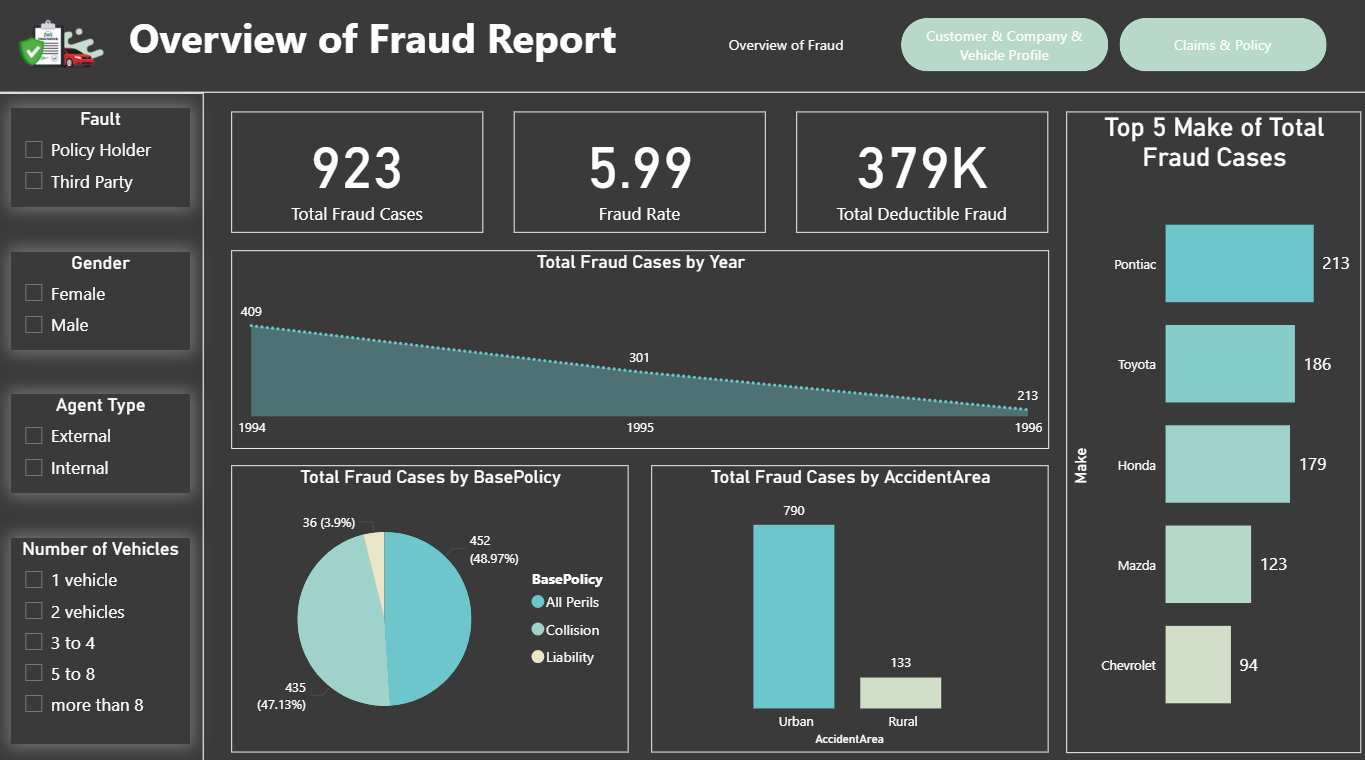

What the dashboard file says about the page in this screenshot:
{"tool":"powerbi","page":{"name":"Overview of Fraud","canvas":[1280,720],"ordinal":0},"visuals":[{"type":"shape","box":[0,0,1280.2,91.9],"z":0},{"type":"shape","box":[0,91.9,194.2,627.9],"z":1000},{"type":"textbox","box":[119.8,10.5,480.2,74.4],"z":2000},{"type":"image","box":[0,2.3,119.8,89.5],"z":3000},{"type":"barChart","title":"Top 5 Make of Total Fraud Cases","fields":{"Y":["'Measures'.Total Fraud Cases"],"Category":["Vehicle Dim.Make"]},"box":[996.7,109.2,274.1,596.8],"z":4000},{"type":"lineChart","fields":{"Y":["Measure.Total Fraud Cases"],"Category":["Date Dim.Year"]},"box":[219.8,238.4,760.5,184.9],"z":5000},{"type":"pieChart","fields":{"Y":["'Measures'.Total Fraud Cases"],"Category":["Policy Dim.BasePolicy"]},"box":[219.8,438.4,369.8,267.4],"z":6000},{"type":"columnChart","fields":{"Category":["Claim Dim.AccidentArea"],"Y":["'Measures'.Total Fraud Cases"]},"box":[610.5,438.4,369.8,267.4],"z":7000},{"type":"card","fields":{"Values":["Measure.Total Fraud Cases"]},"box":[219.6,109.8,234.6,112.5],"z":8000},{"type":"card","fields":{"Values":["Measure.Fraud Rate"]},"box":[482.3,109.8,234.6,112.5],"z":9000},{"type":"card","fields":{"Values":["Measure.Total Deductible Fraud"]},"box":[745.1,109.8,234.6,112.5],"z":10000},{"type":"pageNavigator","box":[639.5,22.1,600,50],"z":11000},{"type":"slicer","title":"Fault","fields":{"Values":["Claim Dim.Fault"]},"box":[15.7,105.8,166.3,91.9],"z":12000},{"type":"slicer","title":"Gender","fields":{"Values":["Client Dim.Sex"]},"box":[15.7,239.1,166.3,91.9],"z":13000},{"type":"slicer","title":"Agent Type","fields":{"Values":["Company Dim.AgentType"]},"box":[15.7,372.5,166.3,91.9],"z":14000},{"type":"slicer","title":"Number of Vehicles ","fields":{"Values":["Policy Dim.NumberOfCars"]},"box":[15.7,505.8,166.3,191.9],"z":15000}]}

Visuals, with their boxes in screenshot pixels (x1, y1, x2, y2), scaled from the page's 1280x720 canvas onto the 1365x760 screenshot:
shape: (0, 0, 1364, 97)
shape: (0, 97, 207, 759)
textbox: (128, 11, 640, 90)
image: (0, 2, 128, 97)
"Top 5 Make of Total Fraud Cases" barChart: (1063, 115, 1355, 745)
lineChart - Measure.Total Fraud Cases x Date Dim.Year: (234, 252, 1045, 447)
pieChart - 'Measures'.Total Fraud Cases x Policy Dim.BasePolicy: (234, 463, 629, 745)
columnChart - Claim Dim.AccidentArea x 'Measures'.Total Fraud Cases: (651, 463, 1045, 745)
card - Measure.Total Fraud Cases: (234, 116, 484, 235)
card - Measure.Fraud Rate: (514, 116, 765, 235)
card - Measure.Total Deductible Fraud: (795, 116, 1045, 235)
pageNavigator: (682, 23, 1322, 76)
"Fault" slicer: (17, 112, 194, 209)
"Gender" slicer: (17, 252, 194, 349)
"Agent Type" slicer: (17, 393, 194, 490)
"Number of Vehicles " slicer: (17, 534, 194, 736)
